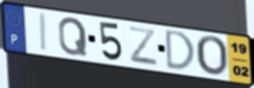5: (99, 22, 124, 62)
D: (165, 28, 197, 72)
I: (39, 12, 49, 54)
O: (194, 35, 230, 79)
Q: (57, 16, 89, 57)
Z: (127, 25, 160, 68)
